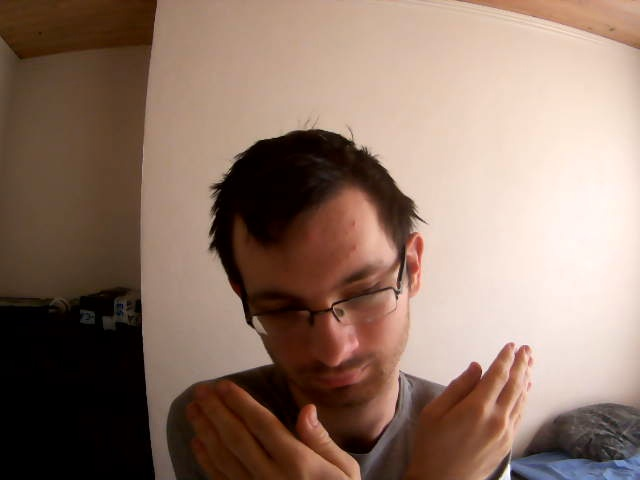butterfly: (182, 337, 539, 475)
